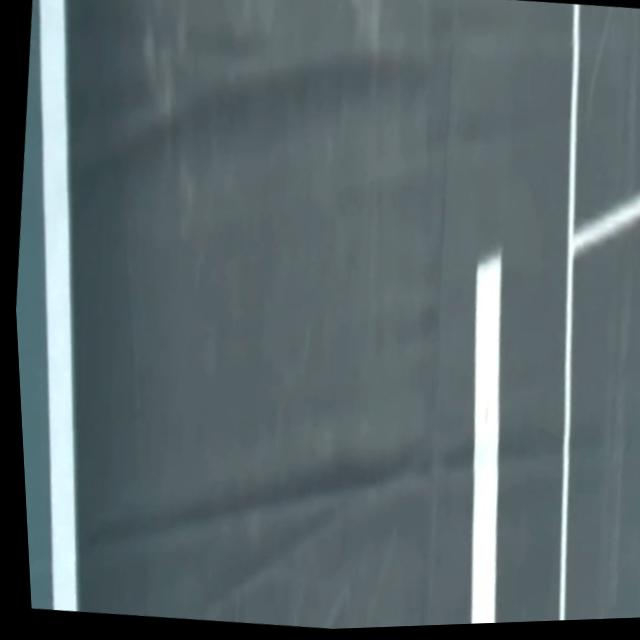center: (470, 253, 500, 624)
left: (38, 0, 77, 611)
